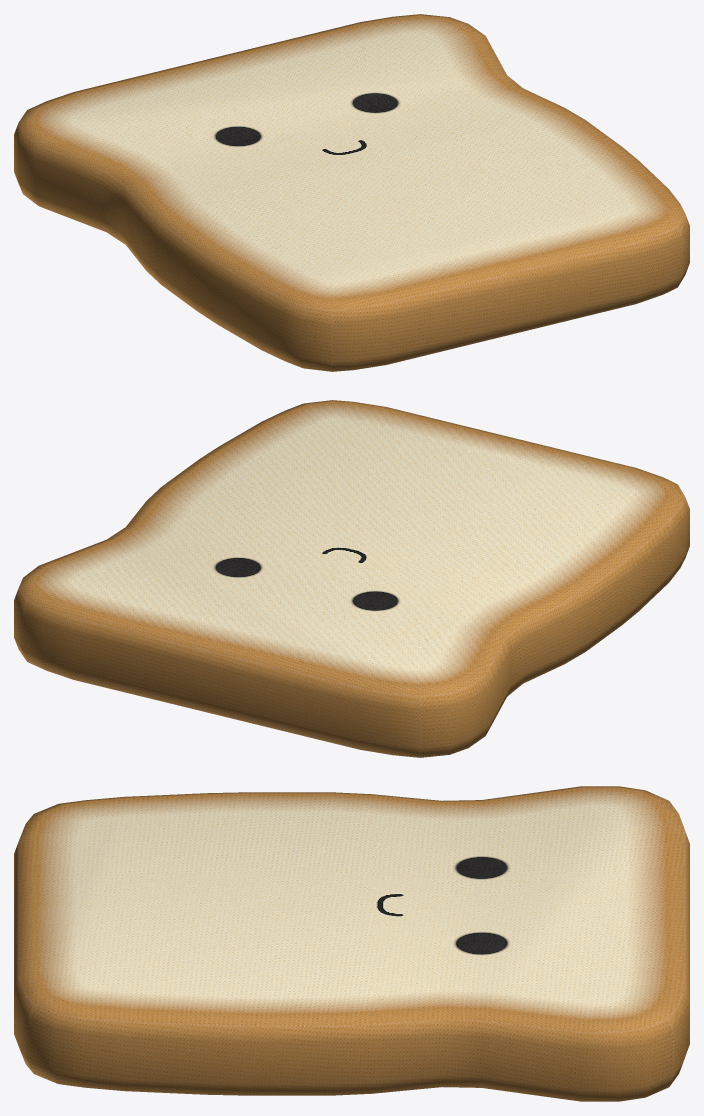
Rendered from Plushie_Toast.FBX.
The picture shows the model from 3 angles, top to bottom: view 1: azimuth 30°, elevation 25°; view 2: azimuth 150°, elevation 25°; view 3: azimuth 270°, elevation 25°; orthographic projection. The views are drawn at different scales.
Parts seen in each view (by area): view 1: Plushie_Toast; view 2: Plushie_Toast; view 3: Plushie_Toast.
Boxes of the visible parts, x1,y1,x2,y2 form: Plushie_Toast: (14, 14, 689, 371); Plushie_Toast: (14, 400, 689, 757); Plushie_Toast: (14, 786, 689, 1101).
Bounding box in the file's own units: 26.33 × 3.87 × 30.
